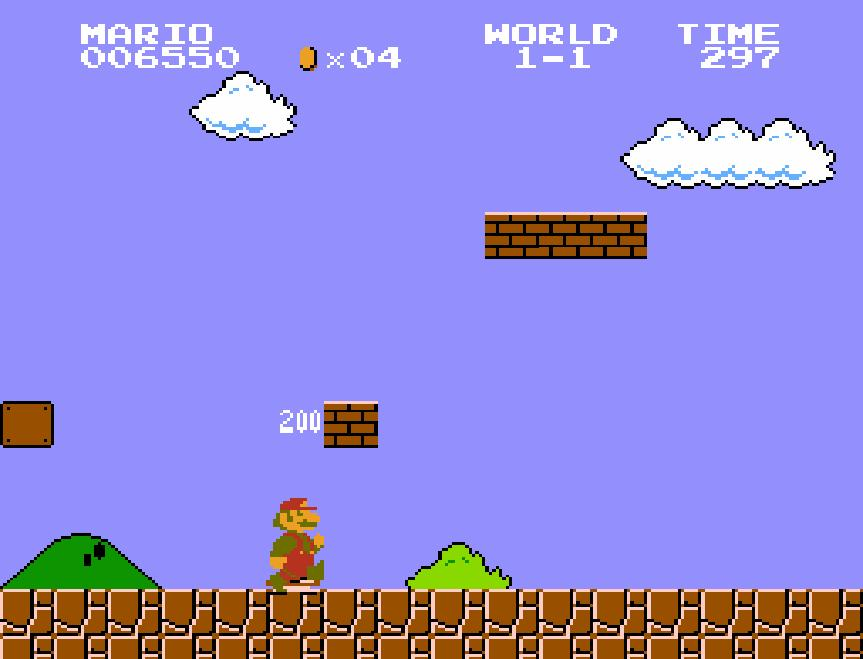big_mario: (267, 496, 325, 594)
